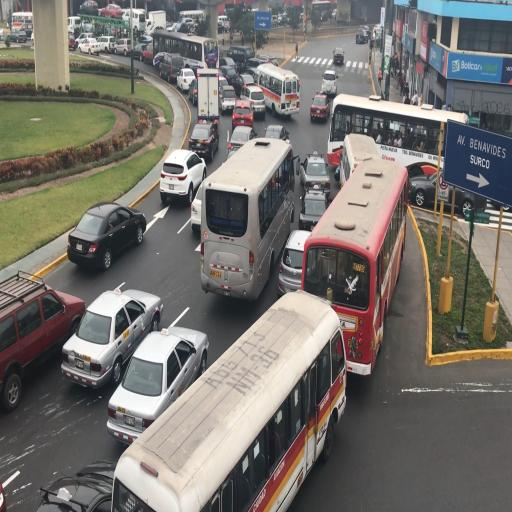auto: (105, 325, 206, 442), (2, 274, 84, 413), (61, 283, 161, 384), (64, 198, 146, 272), (32, 460, 121, 511), (159, 148, 208, 205), (278, 230, 312, 298), (297, 190, 328, 234), (300, 152, 330, 196), (188, 120, 218, 162), (226, 124, 257, 158), (156, 51, 184, 83), (240, 83, 264, 119), (190, 180, 203, 236), (230, 98, 254, 128), (245, 56, 273, 78), (310, 92, 330, 122), (219, 83, 237, 115), (176, 67, 197, 94), (320, 68, 338, 97), (219, 63, 238, 89), (131, 41, 152, 63), (77, 38, 101, 55), (98, 3, 123, 19), (114, 37, 135, 56), (236, 72, 254, 94), (96, 35, 116, 53), (244, 64, 262, 84), (7, 27, 27, 43), (188, 76, 199, 105), (79, 18, 97, 35), (79, 0, 99, 14), (258, 54, 278, 68), (153, 51, 168, 68), (356, 26, 370, 44), (176, 21, 195, 34), (372, 24, 384, 43), (108, 24, 124, 38), (332, 47, 345, 64), (218, 75, 229, 95), (0, 27, 12, 44), (121, 10, 132, 28), (165, 21, 182, 32), (68, 32, 77, 50), (219, 19, 231, 32), (280, 13, 290, 26), (271, 15, 279, 27)
bus: (196, 69, 220, 127)
moto: (116, 298, 329, 507), (299, 148, 402, 368), (333, 96, 468, 198), (254, 62, 298, 118), (341, 131, 382, 191), (228, 44, 254, 70), (123, 8, 148, 34), (147, 10, 167, 34), (311, 0, 333, 21), (178, 10, 204, 24)
